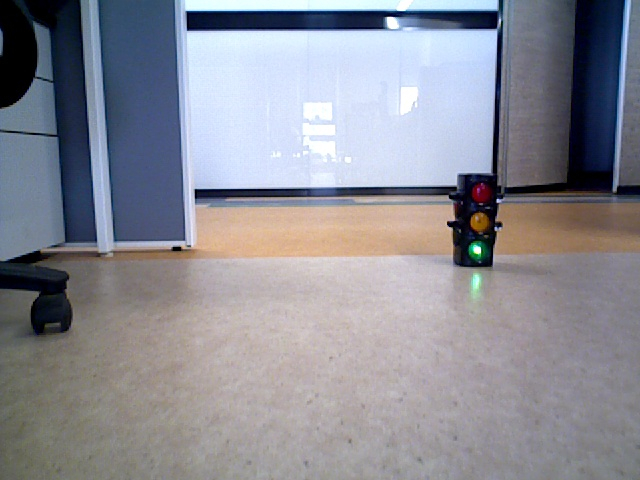green: (458, 174, 495, 264)
